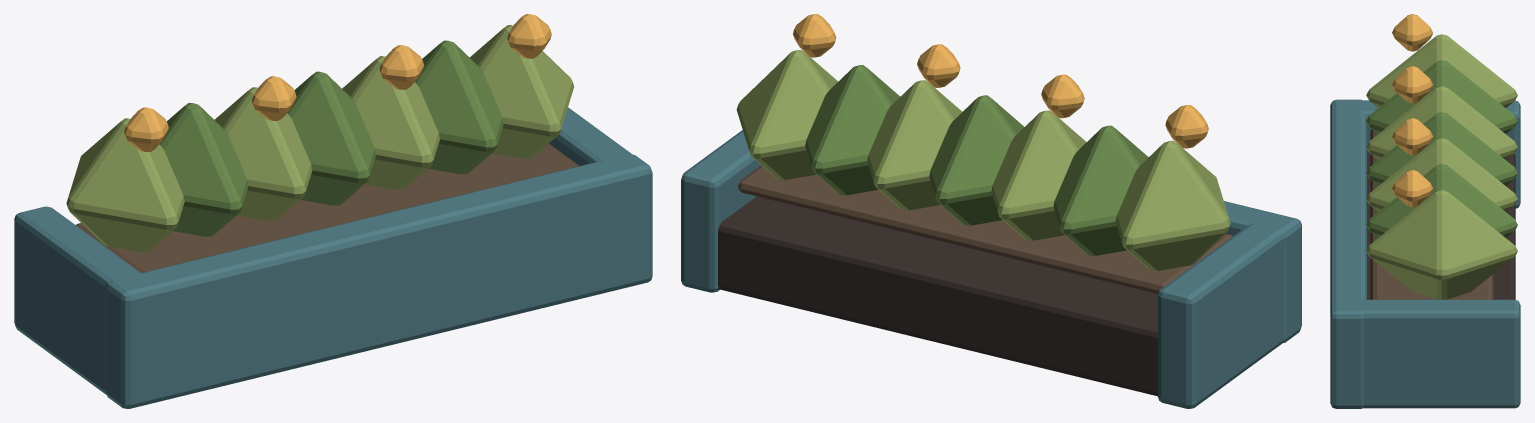
Rendered from attachment_flowerbox__attachments.glb.
3 views of the same model, side by side, from view 1: azimuth 30°, elevation 25°; view 2: azimuth 150°, elevation 25°; view 3: azimuth 270°, elevation 25° (orthographic). The views are drawn at different scales.
Visible parts, largest first — view 1: attachment_flowerbox__attachments__mesh_00; view 2: attachment_flowerbox__attachments__mesh_00; view 3: attachment_flowerbox__attachments__mesh_00.
Part boxes in pixels (<box>): attachment_flowerbox__attachments__mesh_00: <box>14,14,652,408</box>; attachment_flowerbox__attachments__mesh_00: <box>681,14,1301,408</box>; attachment_flowerbox__attachments__mesh_00: <box>1330,14,1520,408</box>.
Bounding box in the file's own units: 1.04 × 0.4721 × 0.3875.
